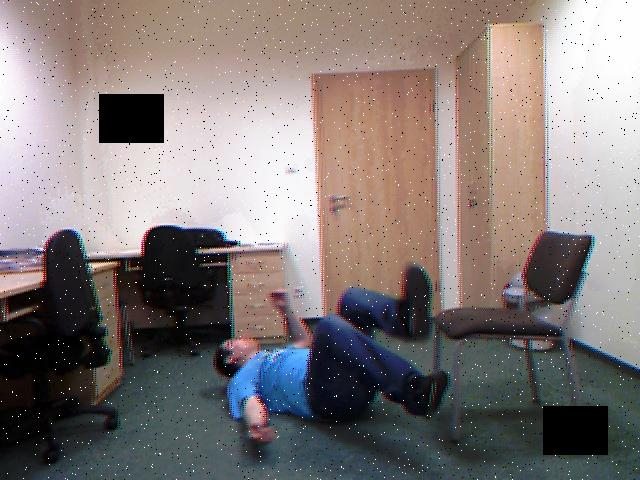fall: (216, 264, 453, 456)
